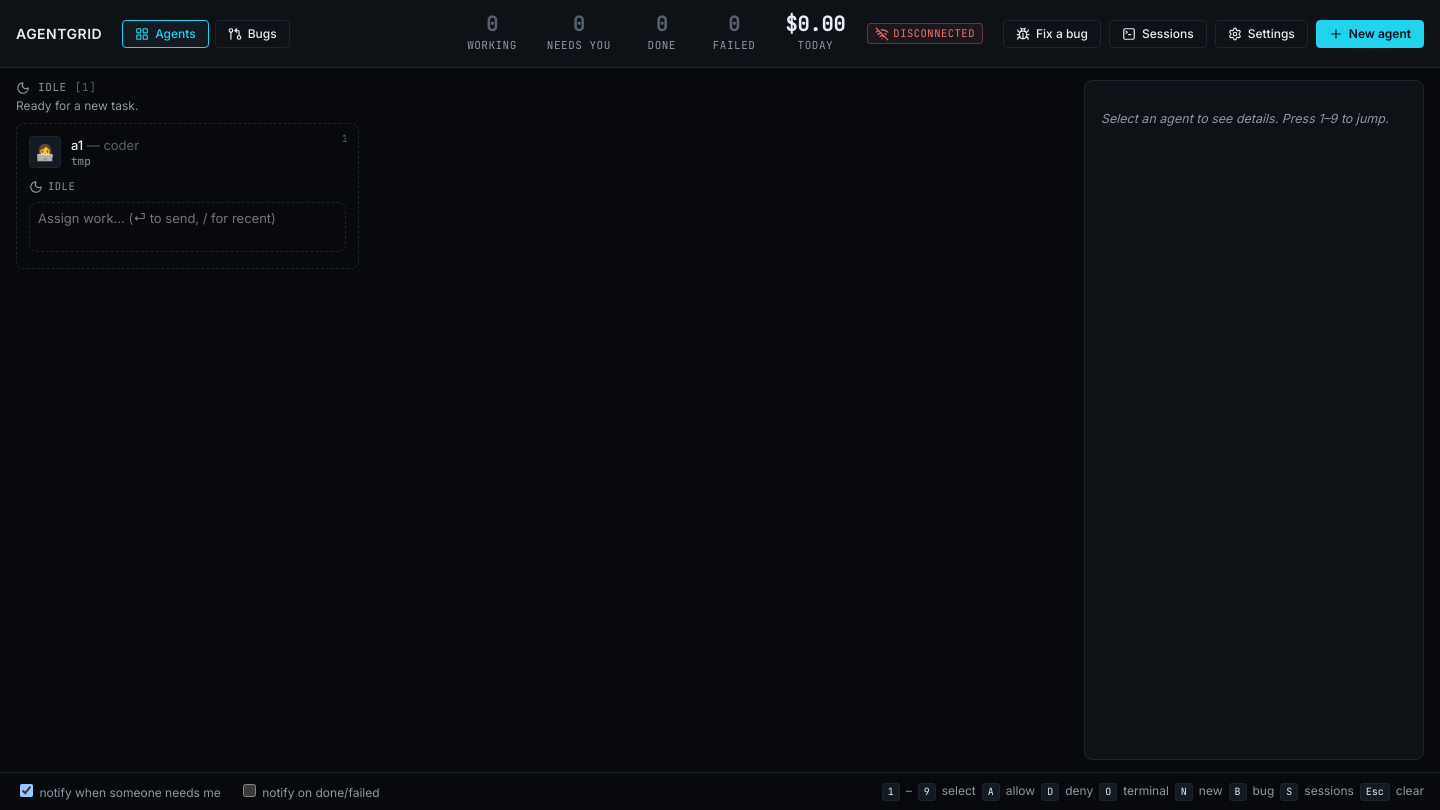
Test: App Escape handling › number keys do nothing while the bug screen is showing
The width and height of the screenshot is (1440, 810).
Click the button "Bugs".
click(252, 34)  # box x1=215 y1=20 x2=290 y2=48
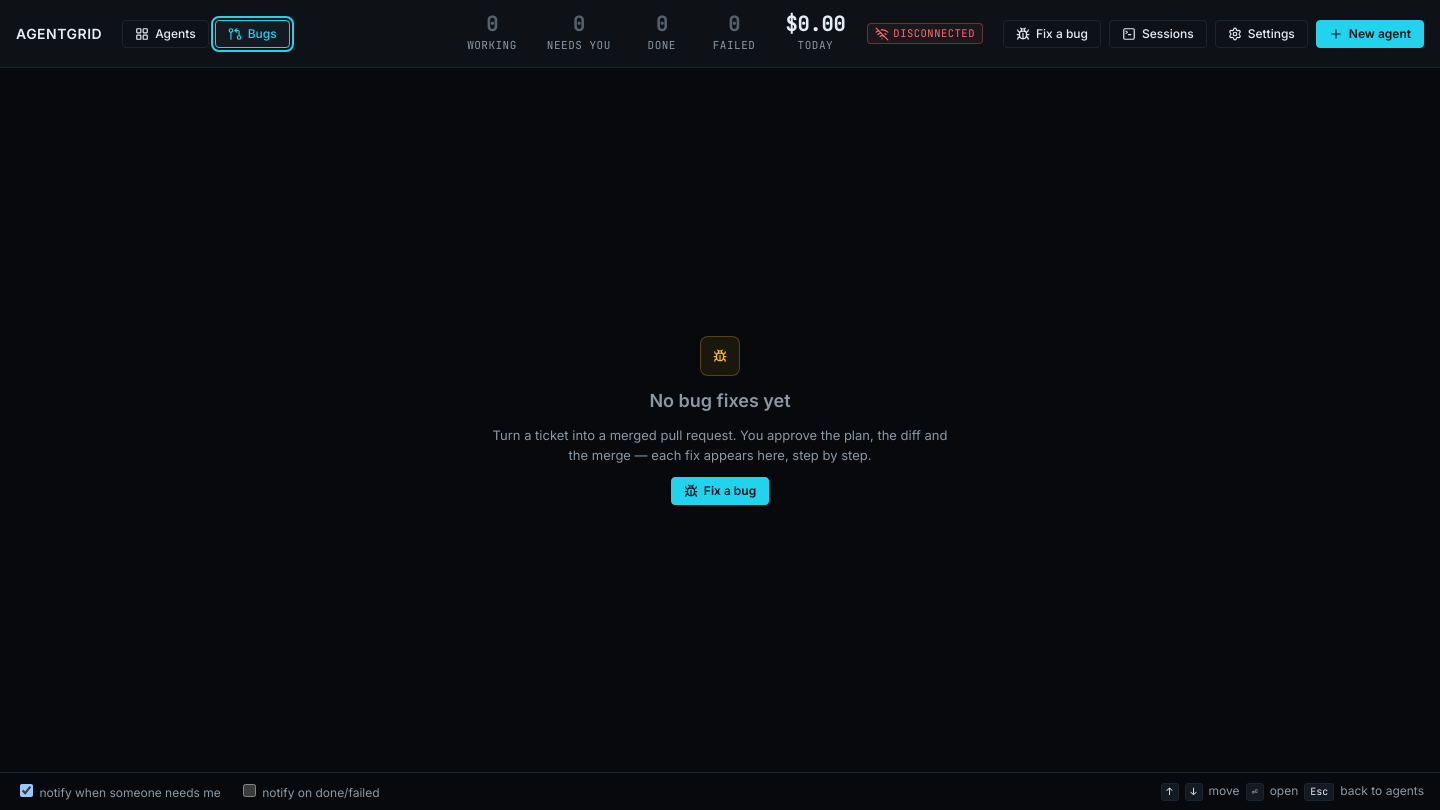
Type keys "1"
Click the button "Agents".
click(165, 34)  # box x1=122 y1=20 x2=209 y2=48
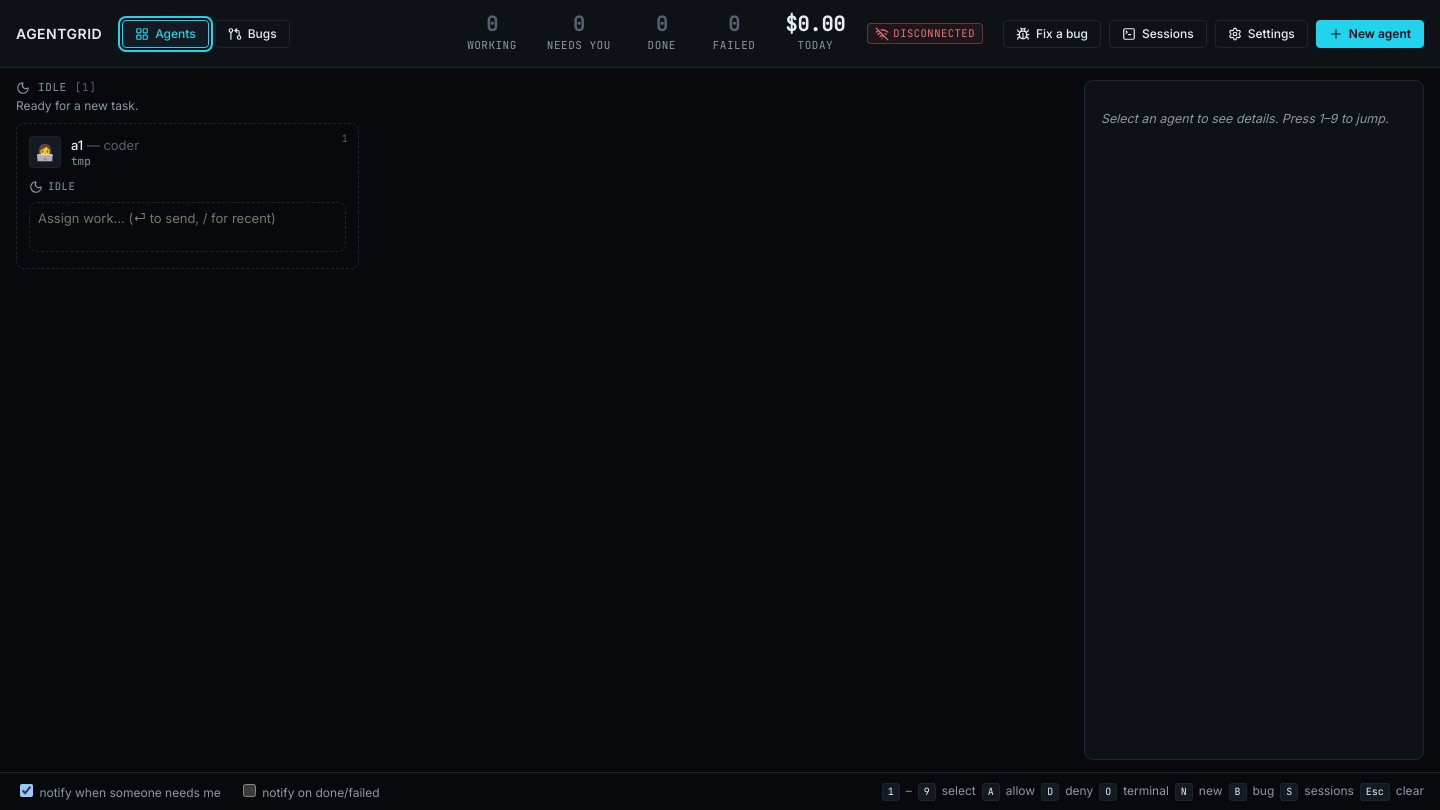
Expected: the text "Select an agent to see details. Press 1–9 to jump." is shown, x1=1101 y1=110 x2=1407 y2=127
